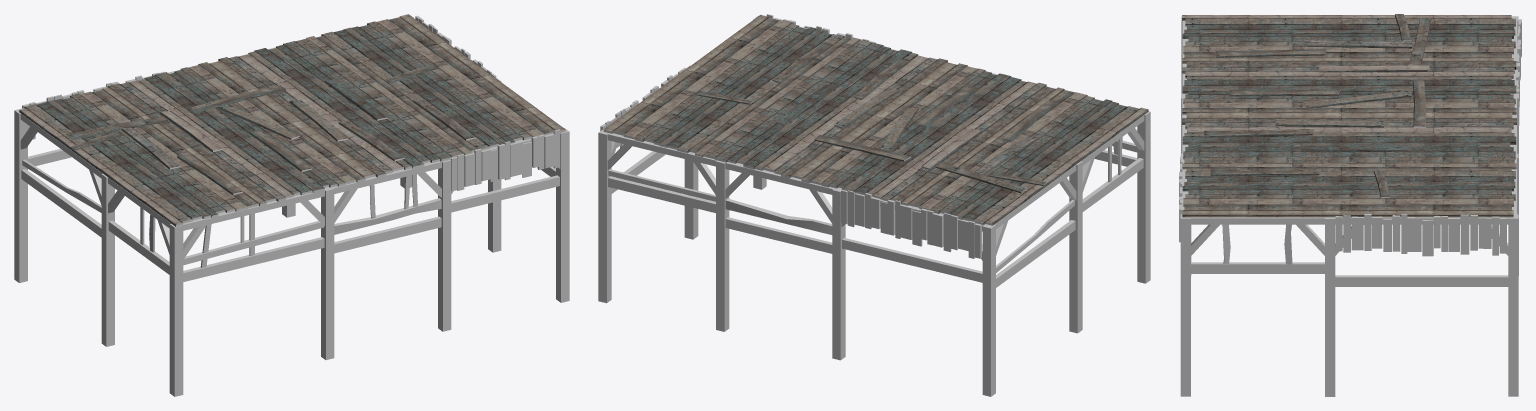
File: Platform3.fbx
3 renders of one model, left to right at view 1: azimuth 30°, elevation 25°; view 2: azimuth 150°, elevation 25°; view 3: azimuth 270°, elevation 25°, orthographic. The views are drawn at different scales.
Parts seen in each view (by area): view 1: polySurface3155; view 2: polySurface3155; view 3: polySurface3155.
Boxes of the visible parts, <box> form: polySurface3155: <box>14,14,569,396</box>; polySurface3155: <box>598,14,1150,396</box>; polySurface3155: <box>1179,14,1521,396</box>.
Size of the model in its own units: 13.98 by 5.82 by 9.91.
